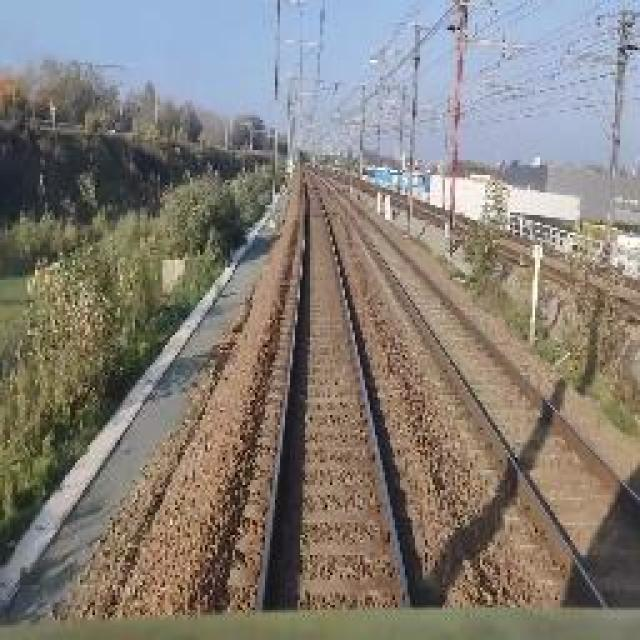rail: (238, 167, 432, 619)
